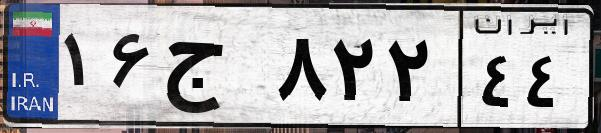1: (57, 26, 110, 100)
2: (385, 28, 445, 110), (330, 28, 385, 110)
4: (475, 38, 525, 113), (525, 38, 570, 115)
6: (110, 28, 158, 98)
8: (270, 28, 330, 110)
ج: (158, 20, 270, 120)
